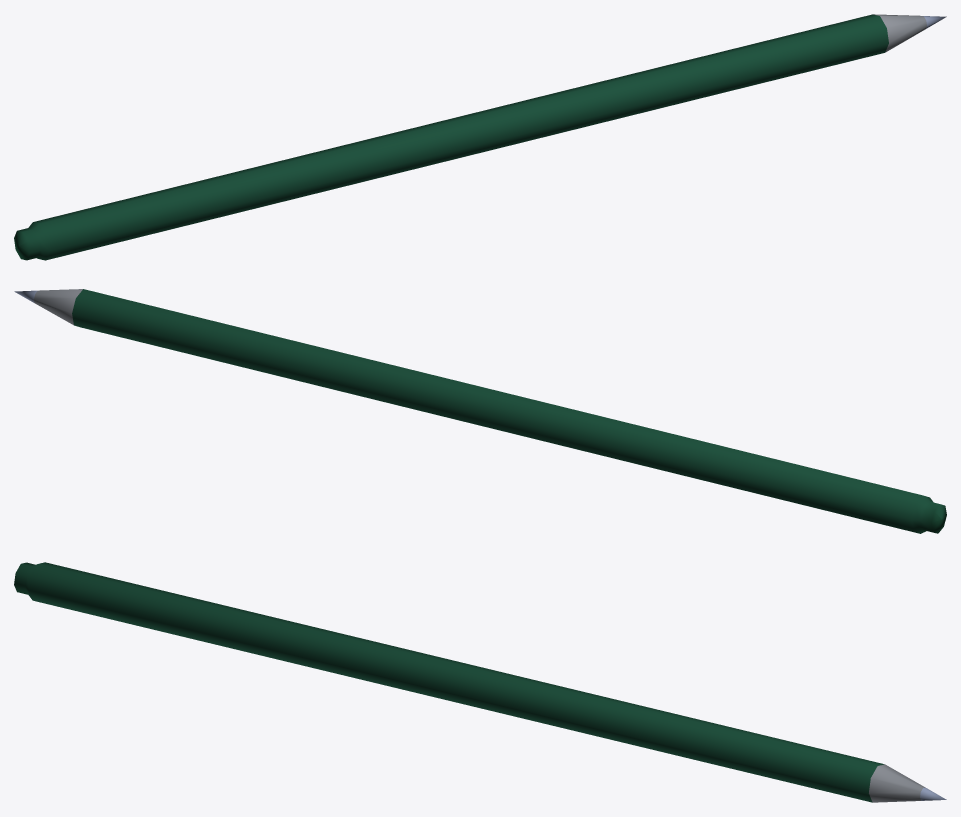
File: Pencil.fbx
3 views of the same model, one above another, from view 1: azimuth 30°, elevation 25°; view 2: azimuth 150°, elevation 25°; view 3: azimuth 330°, elevation 25° (orthographic).
Parts seen in each view (by area): view 1: Pencil; view 2: Pencil; view 3: Pencil.
Part boxes in pixels (x1,y1,x2,y2): Pencil: (14, 14, 946, 260); Pencil: (14, 289, 946, 533); Pencil: (14, 562, 946, 802).
Size of the model in its own units: 14.23 by 0.5704 by 0.5559.
